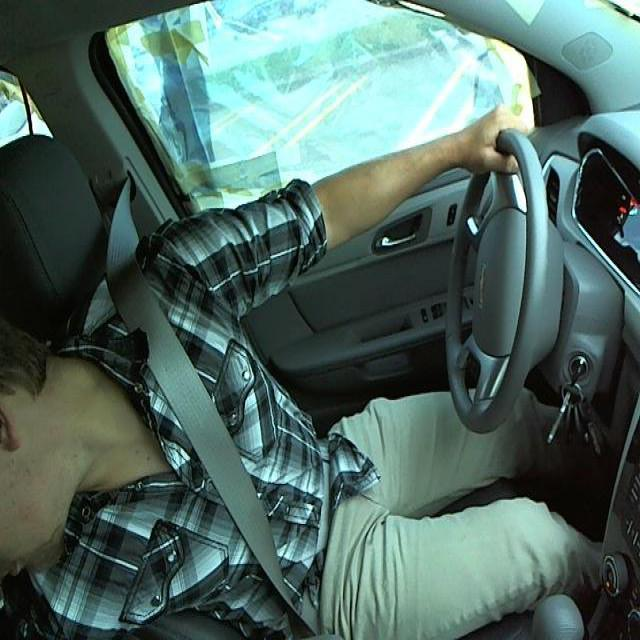seatbelt: (121, 293, 342, 616)
